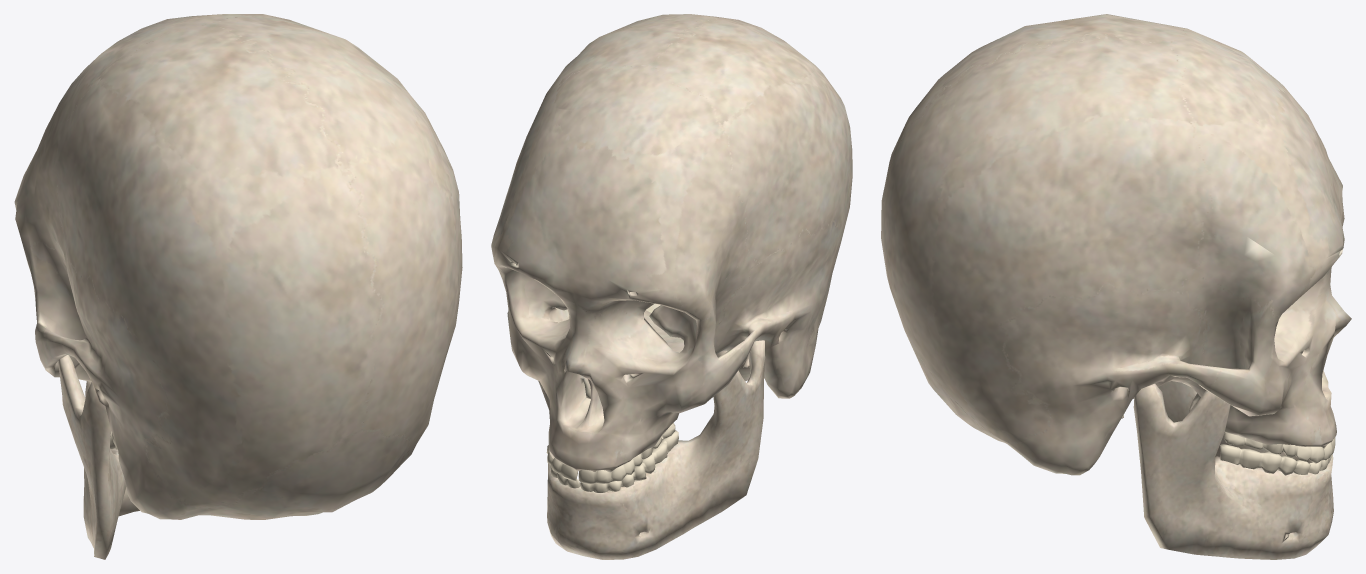
The picture shows the model from 3 angles, left to right: view 1: azimuth 30°, elevation 25°; view 2: azimuth 150°, elevation 25°; view 3: azimuth 270°, elevation 25°; orthographic projection. The views are drawn at different scales.
Parts seen in each view (by area): view 1: Skull__1_, Jaw__1_; view 2: Skull__1_, Jaw__1_, TeethLower__1_, TeethUpper__1_; view 3: Skull__1_, Jaw__1_, TeethLower__1_, TeethUpper__1_.
Part boxes in pixels (x1,y1,x2,y2): Skull__1_: [14, 14, 462, 519]; Jaw__1_: [58, 355, 139, 559]; Skull__1_: [491, 14, 852, 472]; Jaw__1_: [538, 340, 765, 559]; TeethLower__1_: [550, 430, 678, 492]; TeethUpper__1_: [546, 423, 675, 484]; Skull__1_: [881, 14, 1351, 475]; Jaw__1_: [1133, 381, 1333, 559]; TeethLower__1_: [1220, 444, 1331, 475]; TeethUpper__1_: [1224, 432, 1335, 463].
Size of the model in its own units: 160 by 265 by 225.
Materials: 1 (1 with a texture image).
